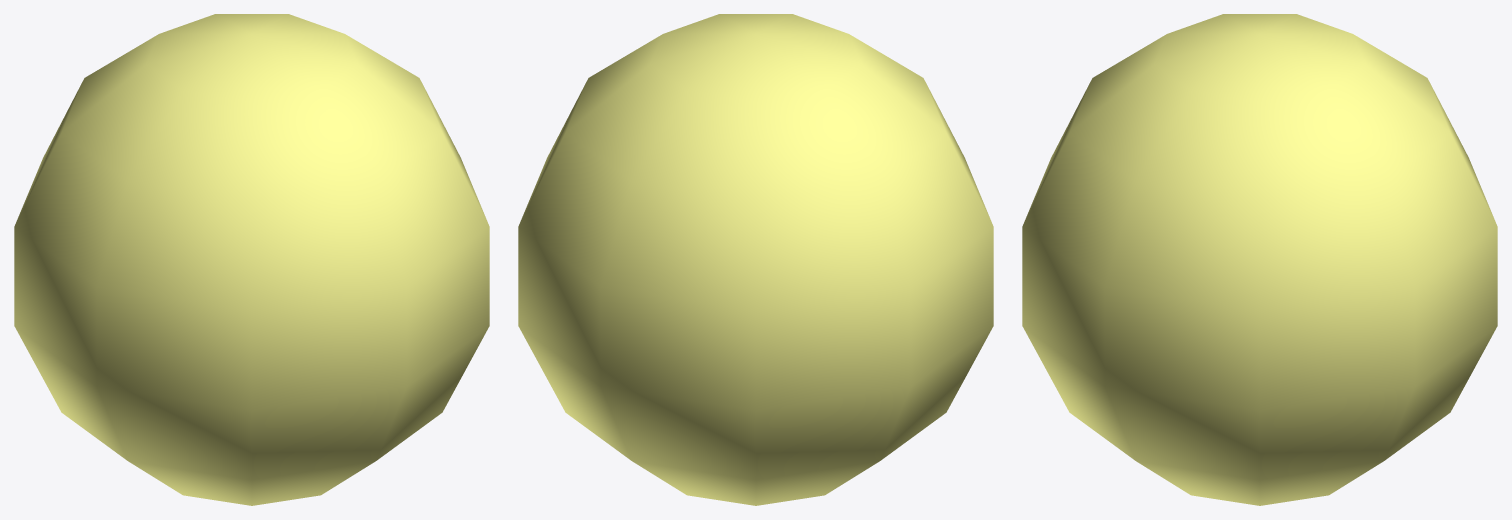
The model's file is candeira_stage1.obj.
3 renders of one model, left to right at view 1: azimuth 30°, elevation 25°; view 2: azimuth 150°, elevation 25°; view 3: azimuth 270°, elevation 25°, orthographic.
Size of the model in its own units: 1.32 by 1.4 by 1.34.
